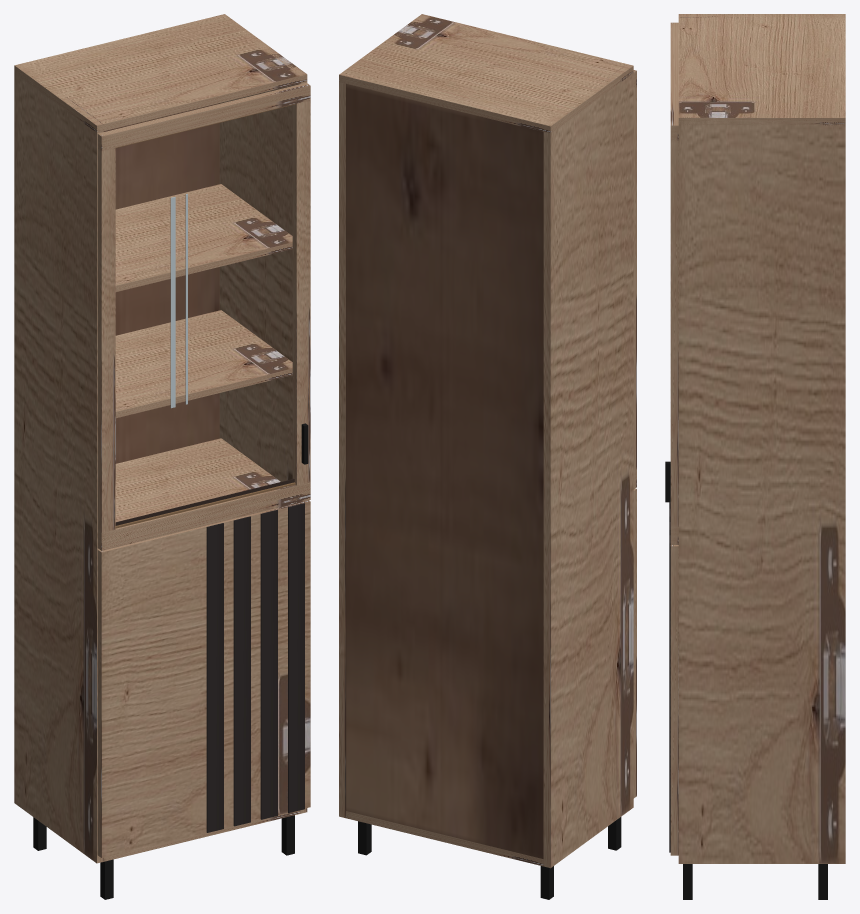
Rendered from laval_vitrina_ar.glb.
3 renders of one model, left to right at view 1: azimuth 30°, elevation 25°; view 2: azimuth 150°, elevation 25°; view 3: azimuth 270°, elevation 25°, orthographic.
Parts seen in each view (by area): view 1: korpus, vrata_donja, vrata_gornja; view 2: korpus, vrata_gornja, vrata_donja; view 3: korpus, vrata_gornja, vrata_donja.
Part boxes in pixels (<box>): korpus: <box>14,14,307,899</box>; vrata_donja: <box>97,500,310,857</box>; vrata_gornja: <box>97,82,310,550</box>; korpus: <box>339,14,633,899</box>; vrata_gornja: <box>633,70,636,489</box>; vrata_donja: <box>633,488,636,798</box>; korpus: <box>678,14,845,899</box>; vrata_gornja: <box>665,22,678,544</box>; vrata_donja: <box>669,502,678,855</box>.
Size of the model in its own units: 0.545 by 1.92 by 0.4.
Materials: 8 (3 with a texture image).
